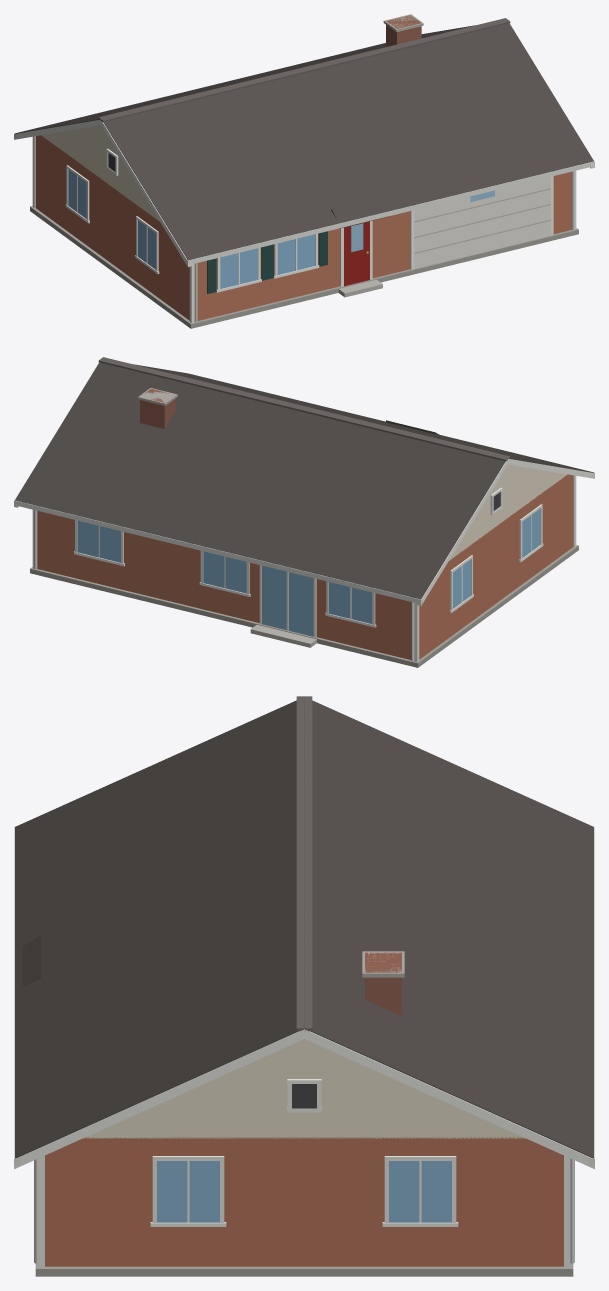
The model's file is house_ranch.obj.
3 views of the same model, one above another, from view 1: azimuth 30°, elevation 25°; view 2: azimuth 150°, elevation 25°; view 3: azimuth 270°, elevation 25° (orthographic). The views are drawn at different scales.
Bounding box in the file's own units: 14.9 × 5.36 × 11.02.
